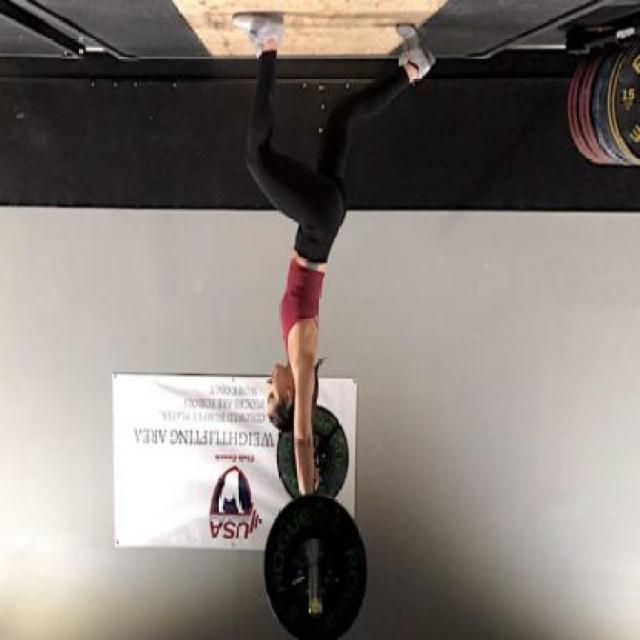Barbell: (305, 596, 324, 622)
